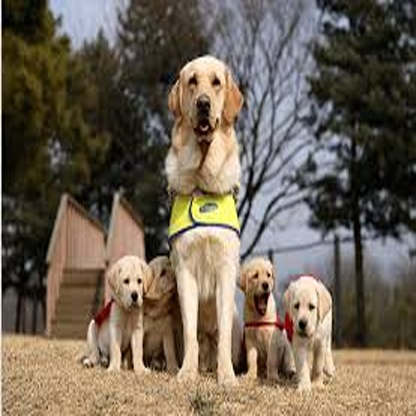guide-dog: (157, 54, 250, 394), (74, 244, 153, 375), (229, 257, 289, 382), (280, 277, 340, 389)
